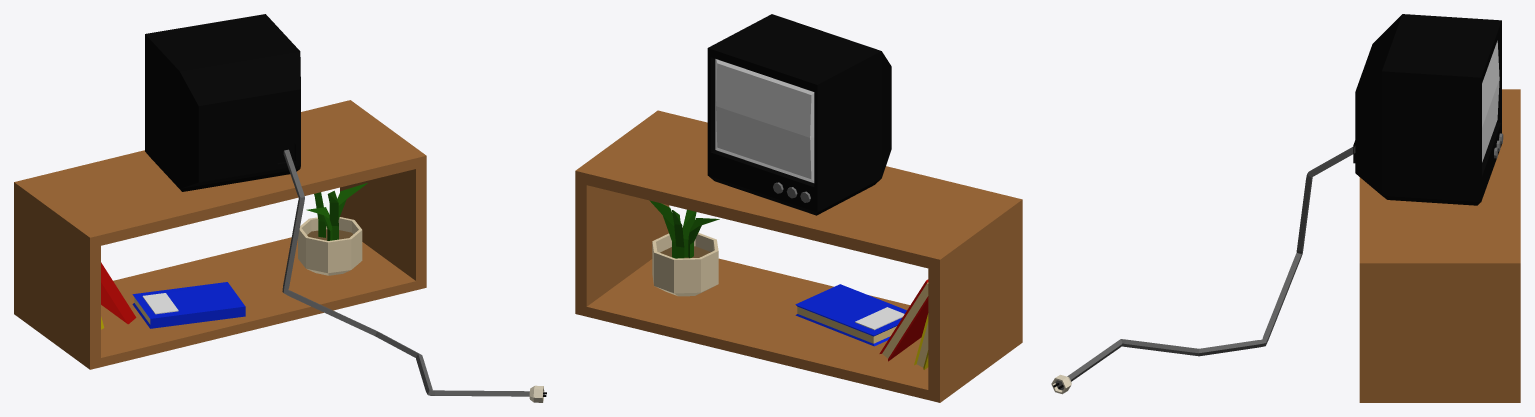
File: Meuble_TV_gamejam.fbx
3 renders of one model, left to right at view 1: azimuth 30°, elevation 25°; view 2: azimuth 150°, elevation 25°; view 3: azimuth 270°, elevation 25°, orthographic. The views are drawn at different scales.
Visible parts, largest first — view 1: Meuble; view 2: Meuble; view 3: Meuble.
Part boxes in pixels (x1=…): Meuble: x1=14, y1=14, x2=546, y2=402; Meuble: x1=575, y1=14, x2=1022, y2=402; Meuble: x1=1051, y1=14, x2=1520, y2=402.
Size of the model in its own units: 120 by 88.62 by 137.
